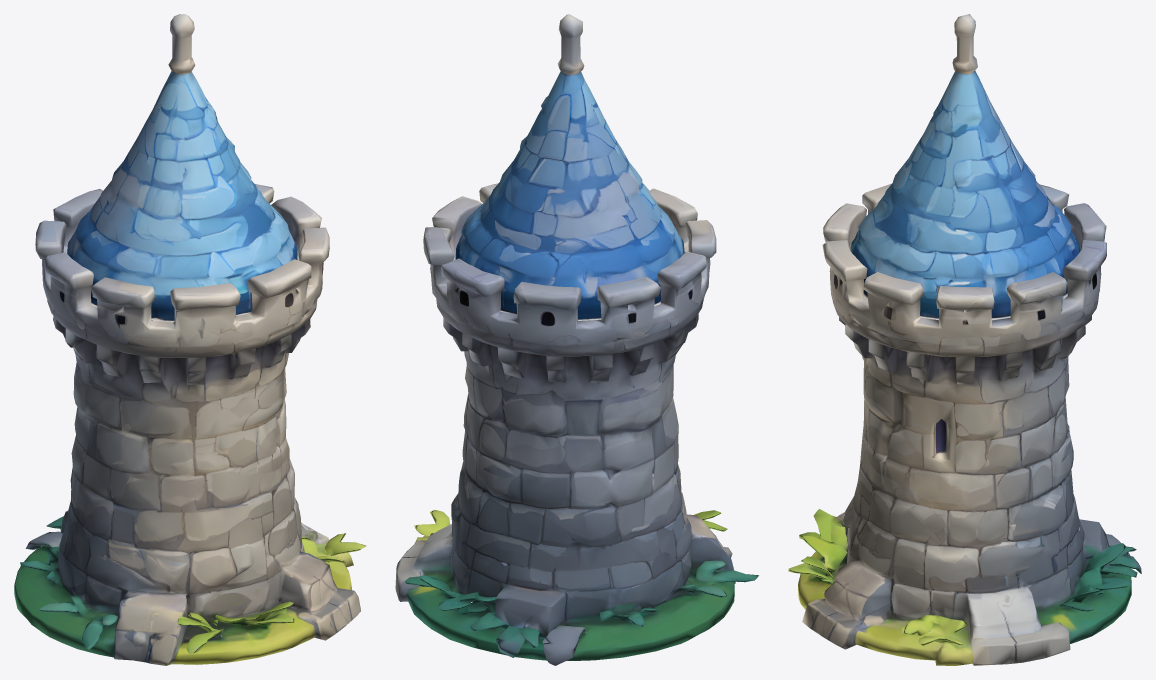
File: mauerturm.glb
3 views of the same model, side by side, from view 1: azimuth 30°, elevation 25°; view 2: azimuth 150°, elevation 25°; view 3: azimuth 270°, elevation 25° (orthographic).
Visible parts, largest first — view 1: tripo_node_69be354c-4623-4533-a0c5-585eacdb99e0; view 2: tripo_node_69be354c-4623-4533-a0c5-585eacdb99e0; view 3: tripo_node_69be354c-4623-4533-a0c5-585eacdb99e0.
Part boxes in pixels (box(x1,y1,x2,y2)): tripo_node_69be354c-4623-4533-a0c5-585eacdb99e0: box(14, 14, 366, 665); tripo_node_69be354c-4623-4533-a0c5-585eacdb99e0: box(395, 14, 758, 665); tripo_node_69be354c-4623-4533-a0c5-585eacdb99e0: box(788, 14, 1141, 665).
Size of the model in its own units: 0.5633 by 1 by 0.5547.
Materials: 1 (1 with a texture image).
